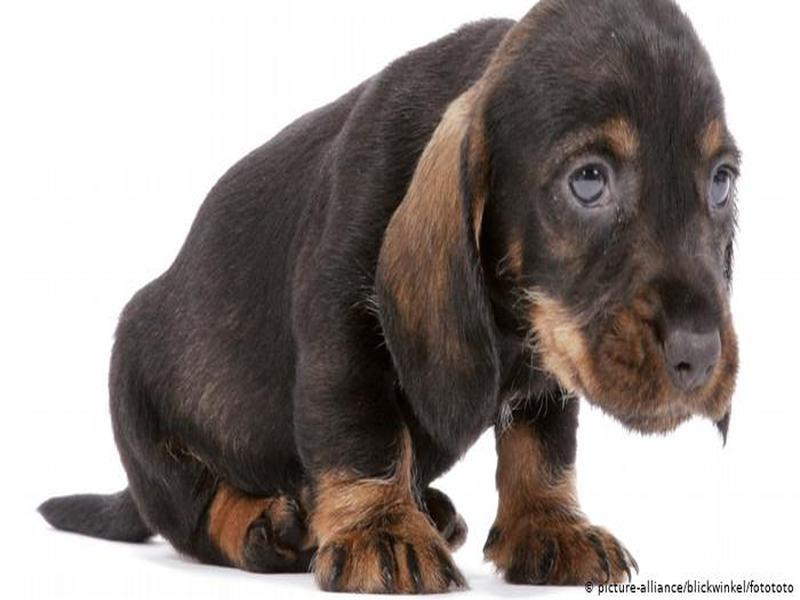dog: (35, 3, 755, 580)
